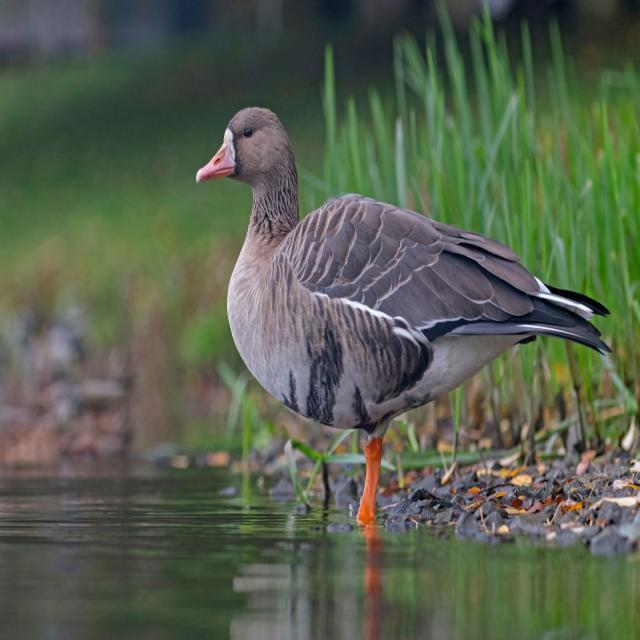Goose: (192, 102, 579, 532)
